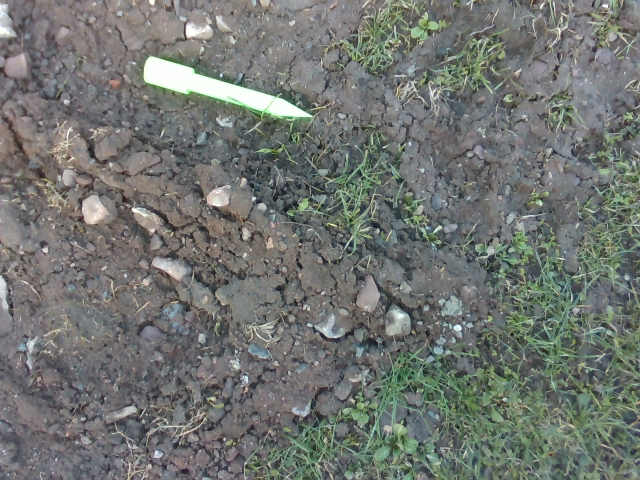Probe: (134, 52, 319, 120)
